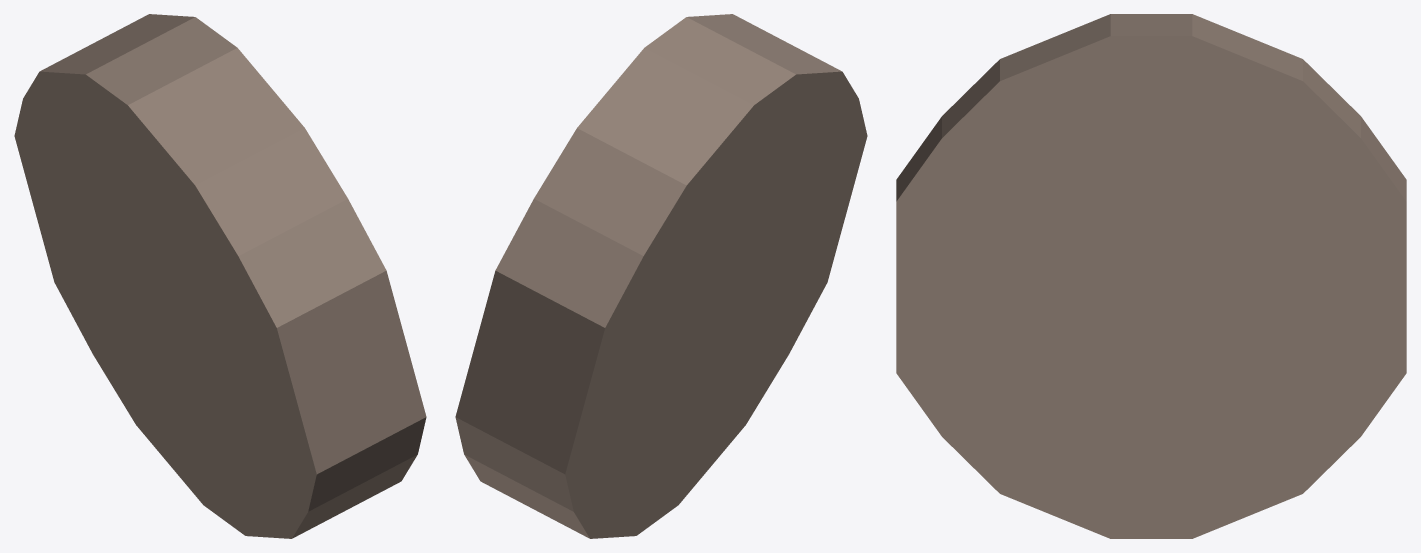
The model's file is ArtilleryLoadDoor.glb.
3 renders of one model, left to right at view 1: azimuth 30°, elevation 25°; view 2: azimuth 150°, elevation 25°; view 3: azimuth 270°, elevation 25°, orthographic. The views are drawn at different scales.
Visible parts, largest first — view 1: ArtilleryLoadDoor; view 2: ArtilleryLoadDoor; view 3: ArtilleryLoadDoor.
Boxes of the visible parts, <box> form: ArtilleryLoadDoor: <box>14,14,426,538</box>; ArtilleryLoadDoor: <box>455,14,867,538</box>; ArtilleryLoadDoor: <box>896,14,1406,538</box>.
Bounding box in the file's own units: 0.1982 × 0.4082 × 0.3961.
